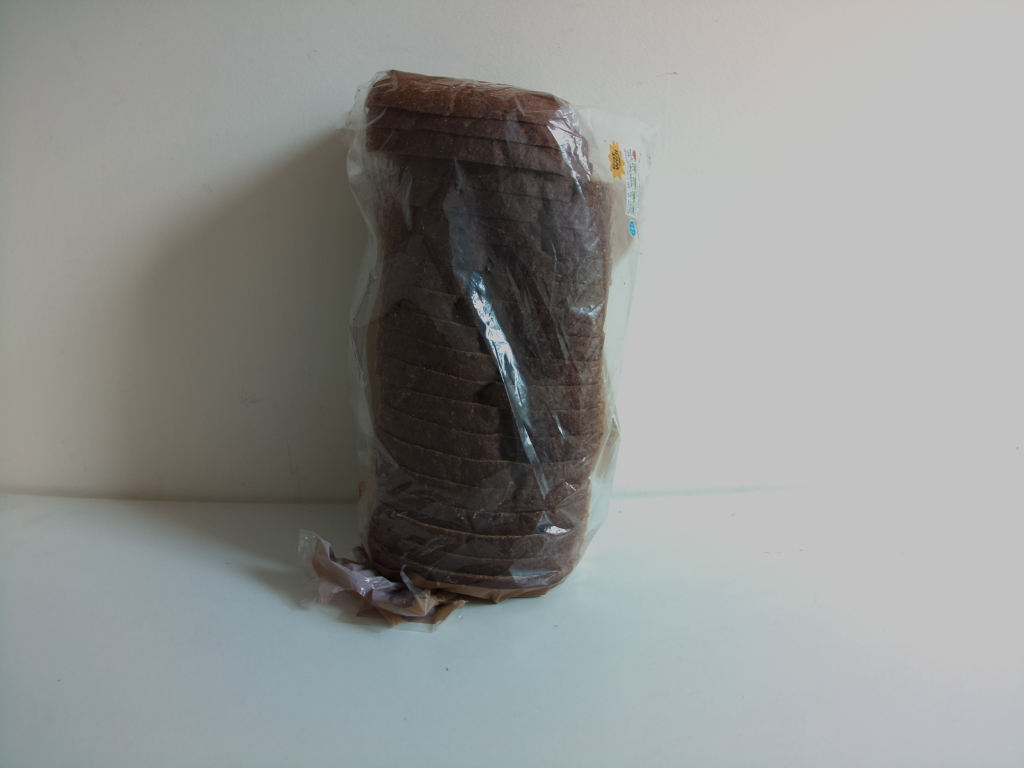bread: (294, 63, 652, 633)
